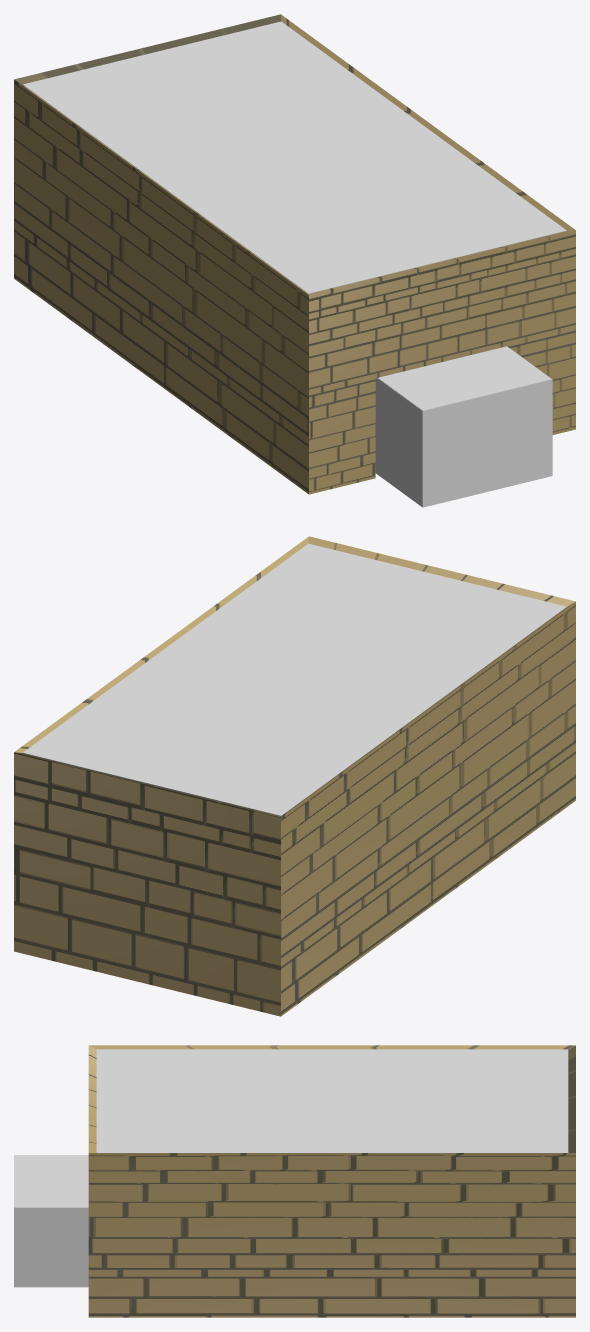
Rendered from Puzzle Room.fbx.
The picture shows the model from 3 angles, top to bottom: view 1: azimuth 30°, elevation 25°; view 2: azimuth 150°, elevation 25°; view 3: azimuth 270°, elevation 25°; orthographic projection. The views are drawn at different scales.
Visible parts, largest first — view 1: Cube.005, Cube.001, Cube.002, Cube.004, Cube.003; view 2: Cube.005, Cube.001, Cube.003, Cube.002; view 3: Cube.001, Cube.005, Cube.004, Cube.002, Cube.003.
Part boxes in pixels (box(x1,y1,x2,y2)): Cube.005: box(22, 21, 566, 293); Cube.001: box(14, 14, 575, 494); Cube.002: box(308, 230, 575, 494); Cube.004: box(375, 346, 552, 507); Cube.003: box(14, 14, 281, 84); Cube.005: box(23, 543, 566, 815); Cube.001: box(14, 536, 575, 1016); Cube.003: box(14, 752, 281, 1016); Cube.002: box(308, 536, 575, 606); Cube.001: box(88, 1045, 575, 1317); Cube.005: box(96, 1049, 568, 1152); Cube.004: box(14, 1155, 88, 1287); Cube.002: box(88, 1046, 96, 1152); Cube.003: box(568, 1045, 575, 1152).
Bounding box in the file's own units: 767 × 547 × 1694.
